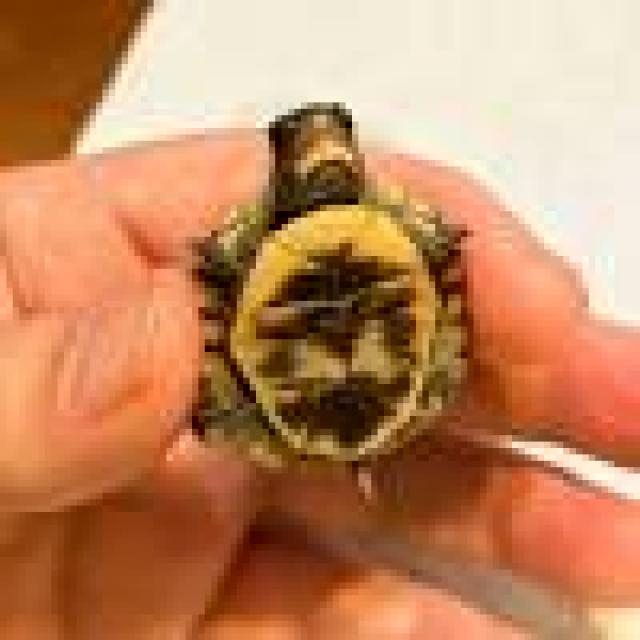Sea turtle: (195, 88, 466, 528)
